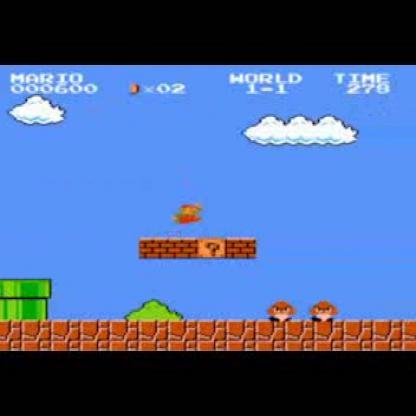Goomba: (312, 298, 338, 322), (272, 298, 296, 321)
